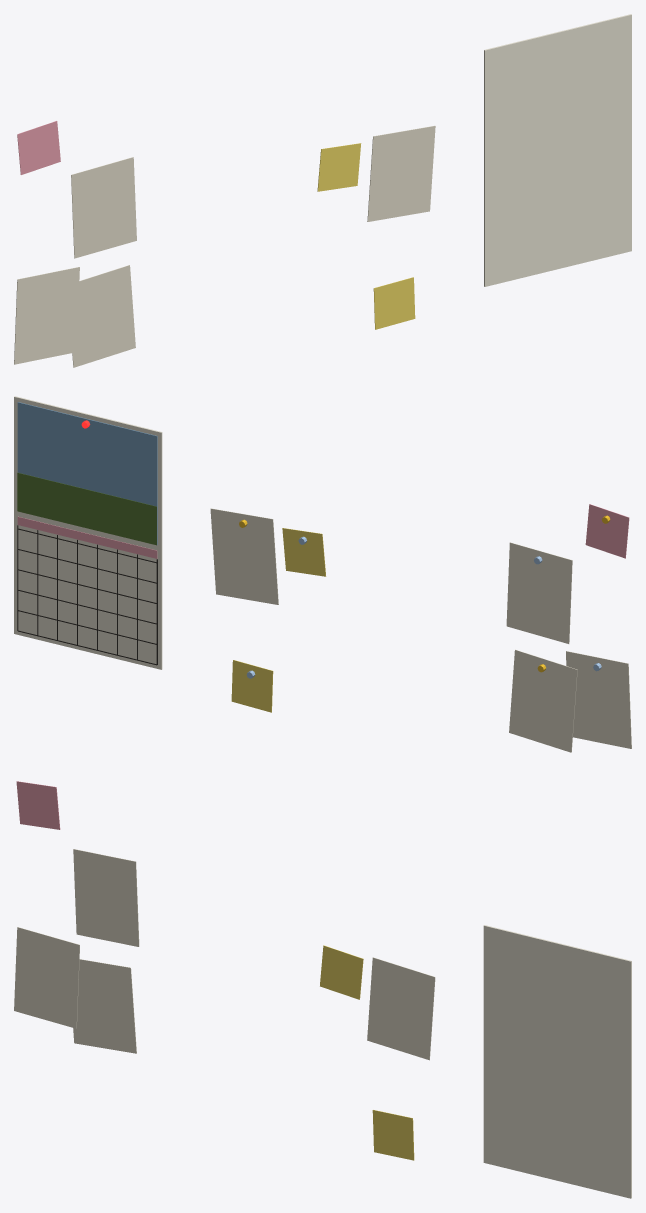
The model's file is SM_80s_CubiclePinup_C.glb.
3 views of the same model, one above another, from view 1: azimuth 30°, elevation 25°; view 2: azimuth 150°, elevation 25°; view 3: azimuth 330°, elevation 25° (orthographic).
Visible parts, largest first — view 1: SM_80s_CubiclePinup_C; view 2: SM_80s_CubiclePinup_C; view 3: SM_80s_CubiclePinup_C.
Boxes of the visible parts, x1=… form: SM_80s_CubiclePinup_C: x1=14, y1=14, x2=631, y2=367; SM_80s_CubiclePinup_C: x1=14, y1=396, x2=631, y2=752; SM_80s_CubiclePinup_C: x1=14, y1=781, x2=631, y2=1198.
Size of the model in its own units: 1.55 by 0.6862 by 0.0221.
